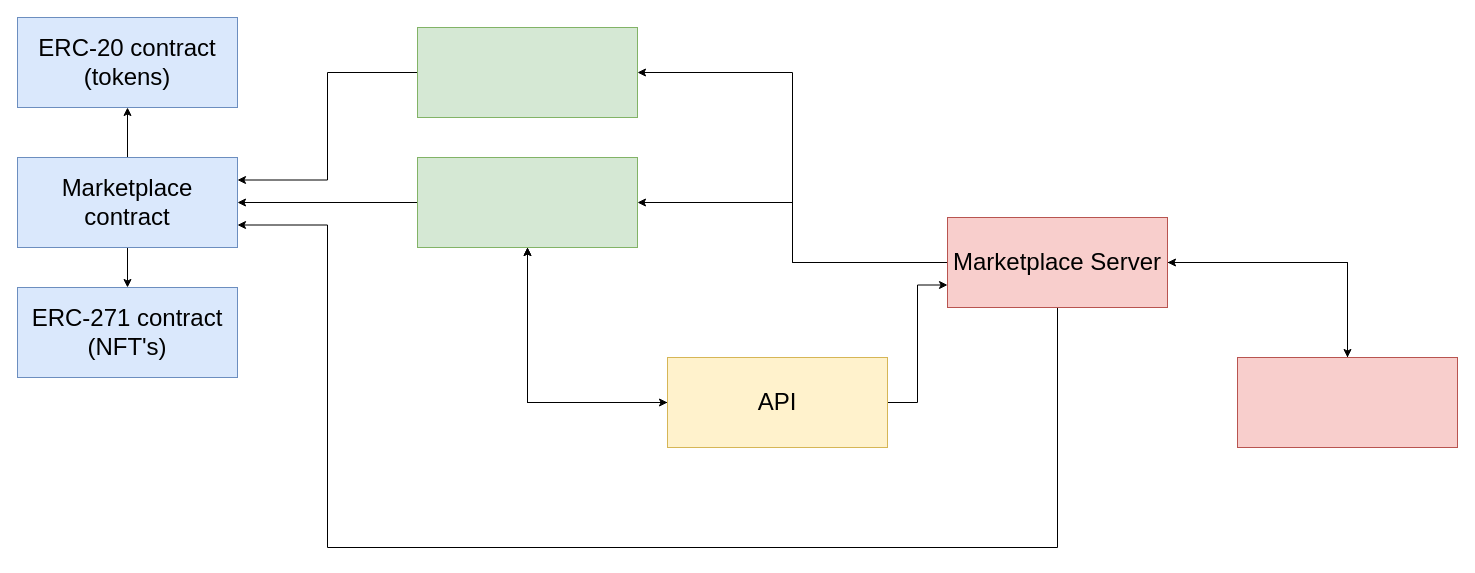
The diagram is 1475 pixels wide and 573 high, and some of its shapes have lost their labels. Each missing label, with the centre of its shape:
API integrated page: the point at 527,202
DB of signed transactions: the point at 1347,402
Pure dApp page: the point at 527,72
